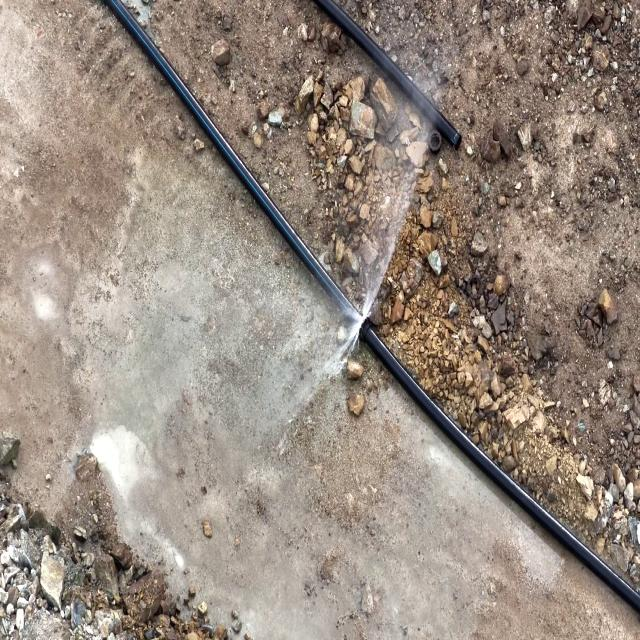leak: (306, 185, 413, 395)
